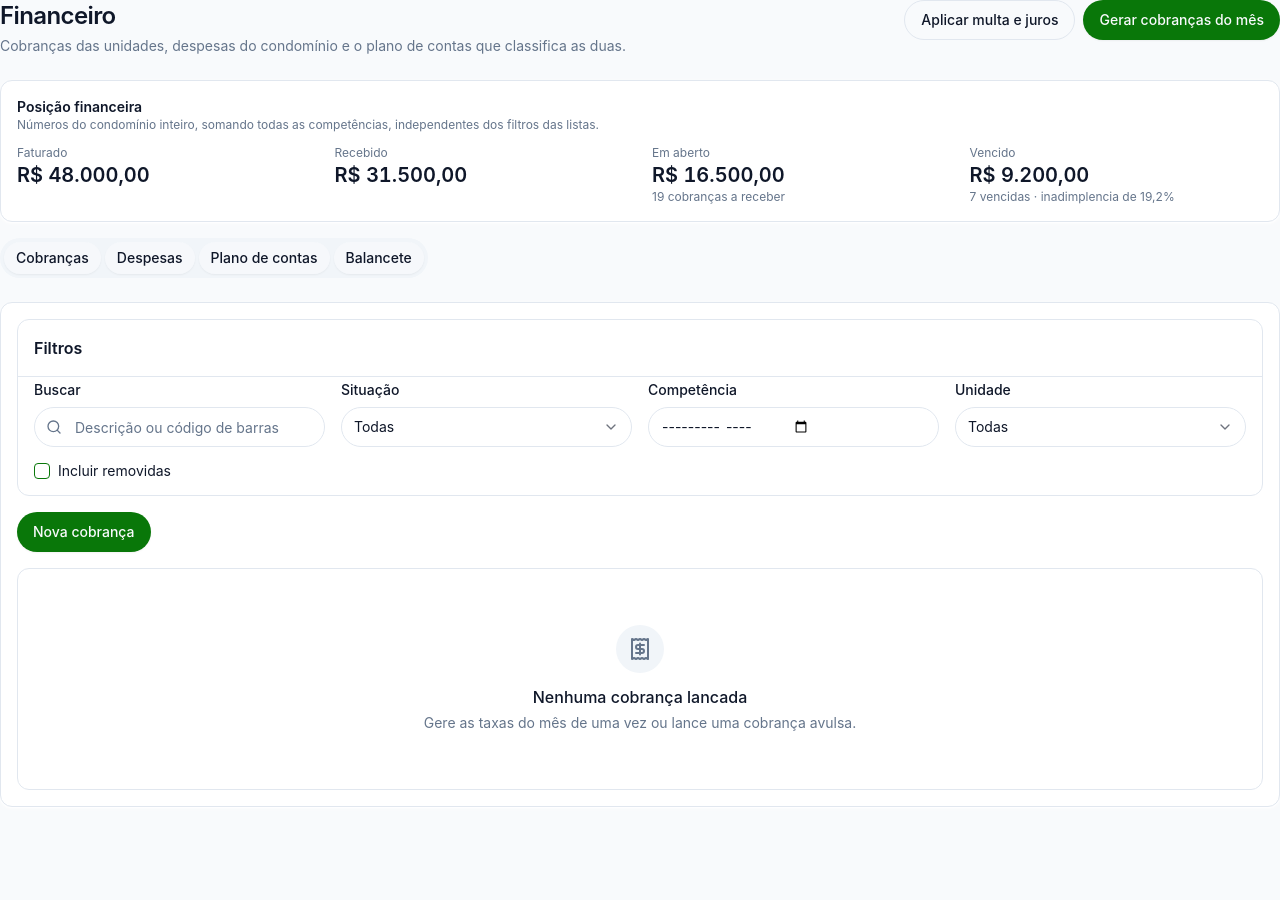
Geração em lote › envia o pedido e diz quantas foram geradas e quantas foram puladas
Check: the text "Nenhuma cobrança lancada" is shown, box [533,687,747,707]
Click the button "Gerar cobranças do mês". click: (1182, 20)
box: [1084,0,1279,40]
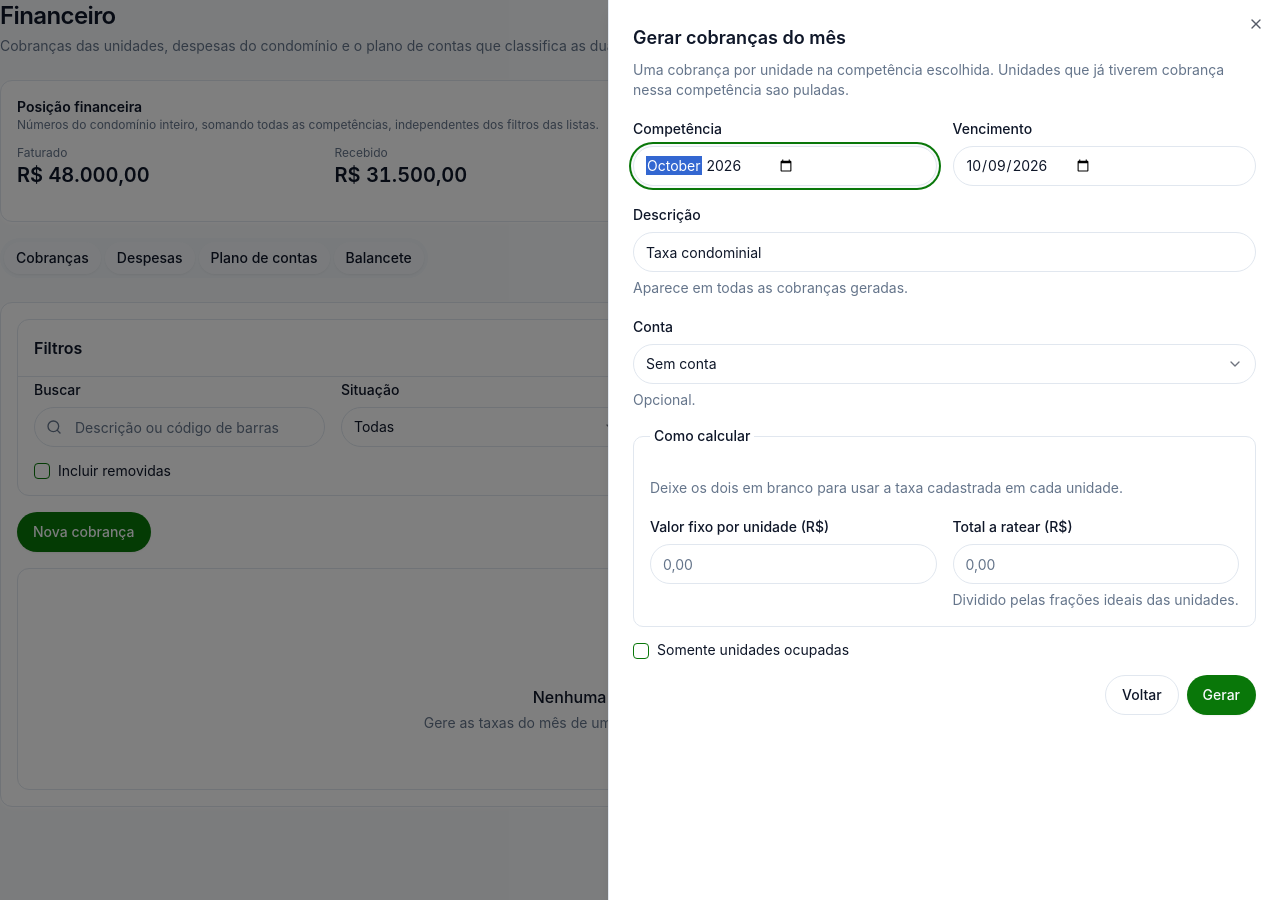
Click the button "Gerar". click: (1221, 695)
box: [1187,675,1256,715]
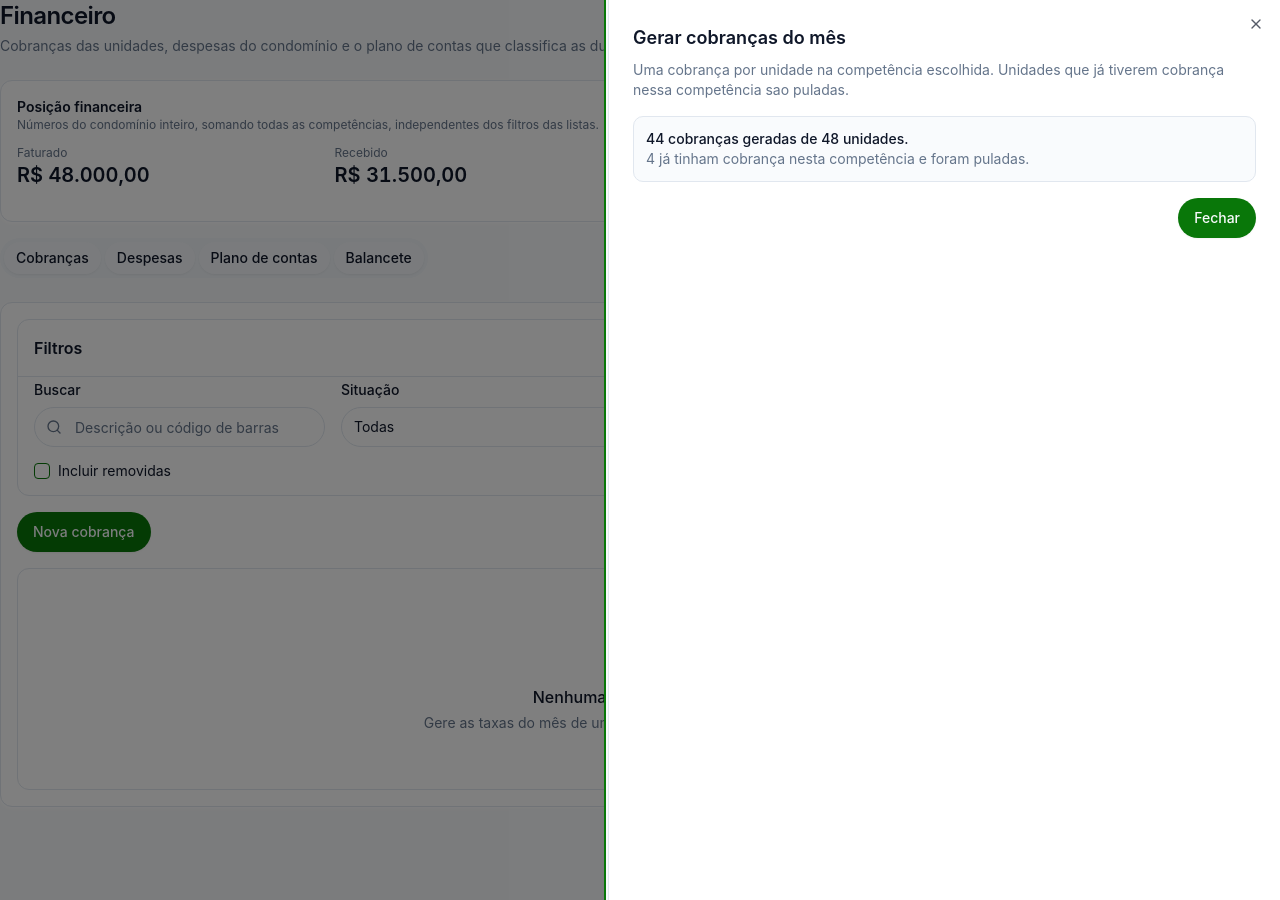
Check: the text "44 cobranças geradas de 48 unidades." is shown, box [646,130,908,147]
Check: the text "4 já tinham cobrança nesta competência e foram puladas." is shown, box [646,150,1029,167]
